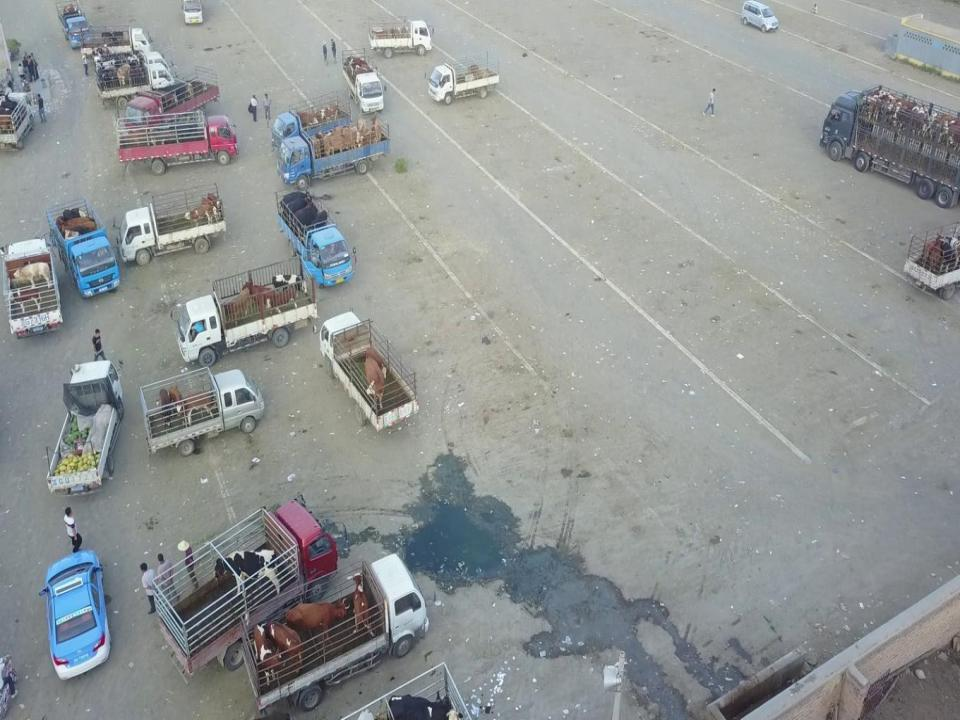car: (44, 550, 111, 680)
truck: (158, 495, 337, 673), (241, 552, 429, 710), (820, 83, 960, 206), (174, 270, 318, 365), (318, 311, 420, 433), (46, 356, 124, 495), (137, 376, 266, 449), (114, 182, 227, 264), (273, 182, 355, 287), (281, 120, 393, 188), (344, 662, 473, 720), (121, 67, 220, 140), (47, 198, 119, 298), (116, 118, 240, 174), (1, 240, 63, 338), (905, 219, 960, 298), (271, 100, 349, 152), (96, 66, 176, 106), (341, 46, 385, 115), (432, 61, 498, 105), (92, 52, 171, 88), (80, 26, 152, 62), (370, 18, 434, 55), (0, 92, 36, 149), (55, 3, 90, 49), (182, 3, 206, 24)
van: (738, 0, 780, 32)
